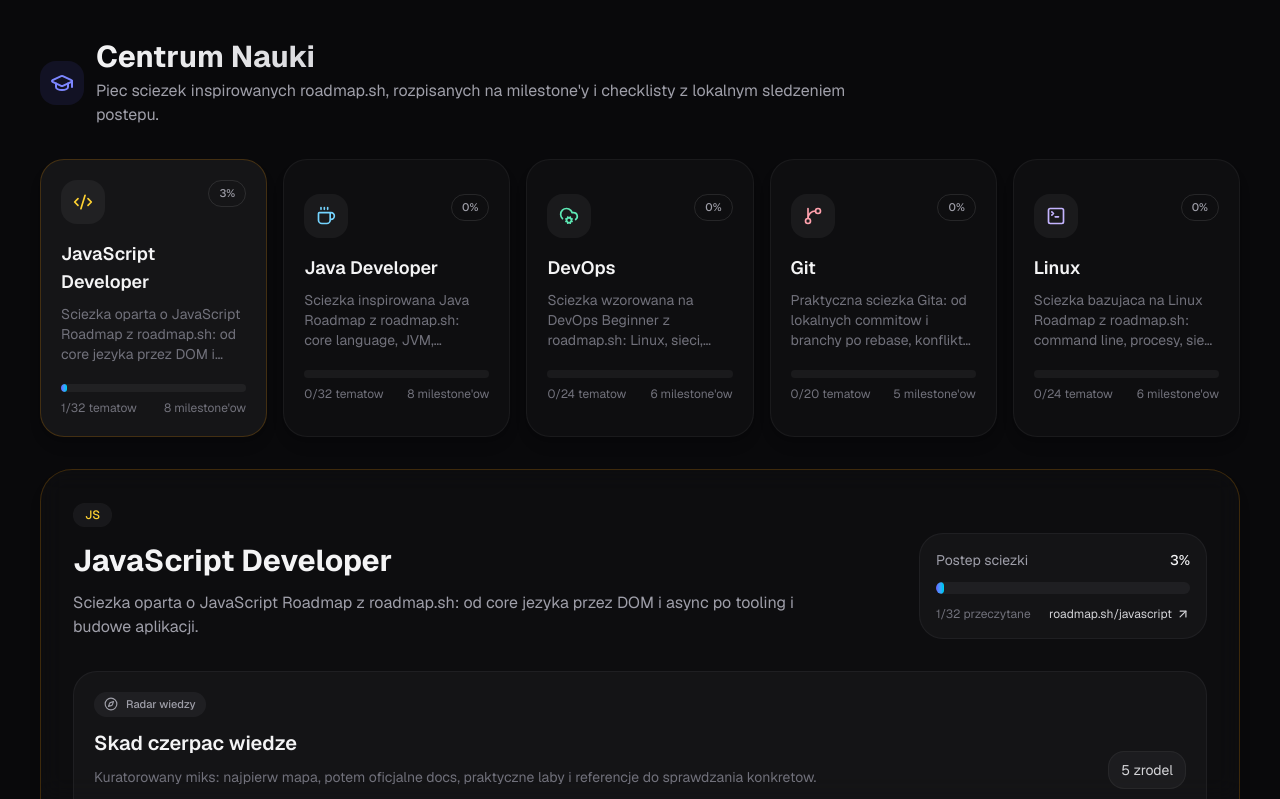
Scenario: LearningRoadmapBoard › loads stored progress and switches learning tracks
Expected: the text "1/32 tematow" is shown, 61,400 -> 137,416
Step 1. Click the button "DevOps Sciezka" → (640, 298), box 526,159 -> 754,437
(page scrolled)
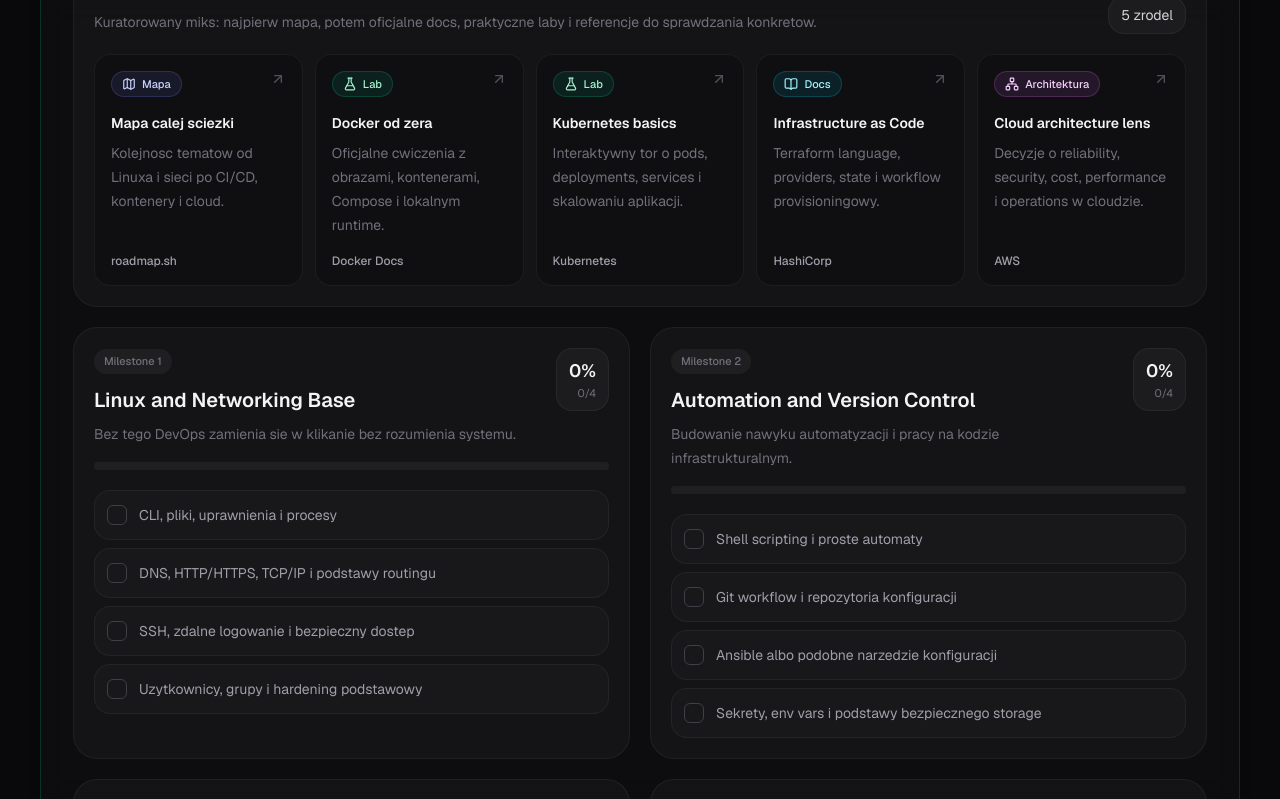
Result: the heading "Linux and Networking Base" is shown at 94,386 -> 355,412
